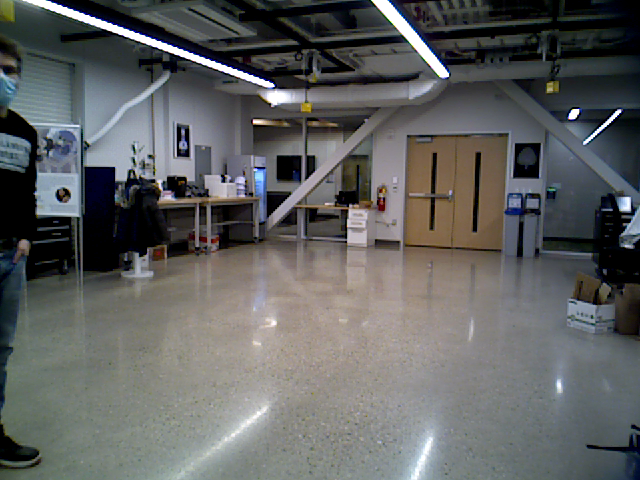painting1: (508, 139, 546, 178)
painting2: (169, 118, 193, 160)
